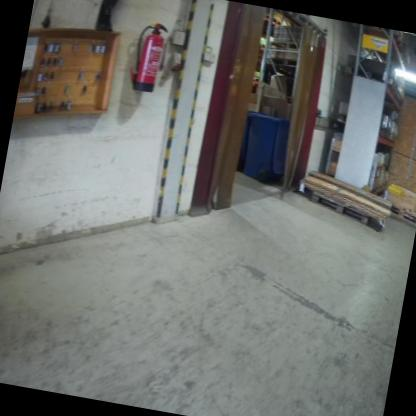pallet: (305, 190, 371, 227), (384, 204, 416, 226), (269, 36, 300, 53), (265, 53, 297, 69)
